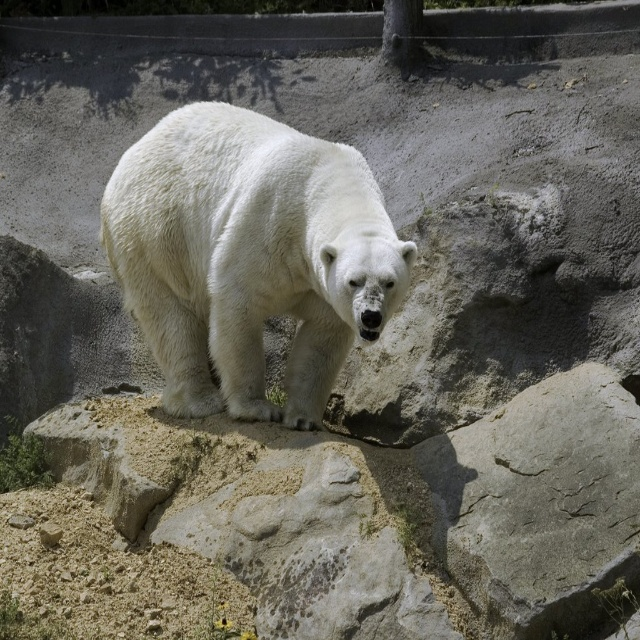Polar bear: (96, 95, 418, 430)
